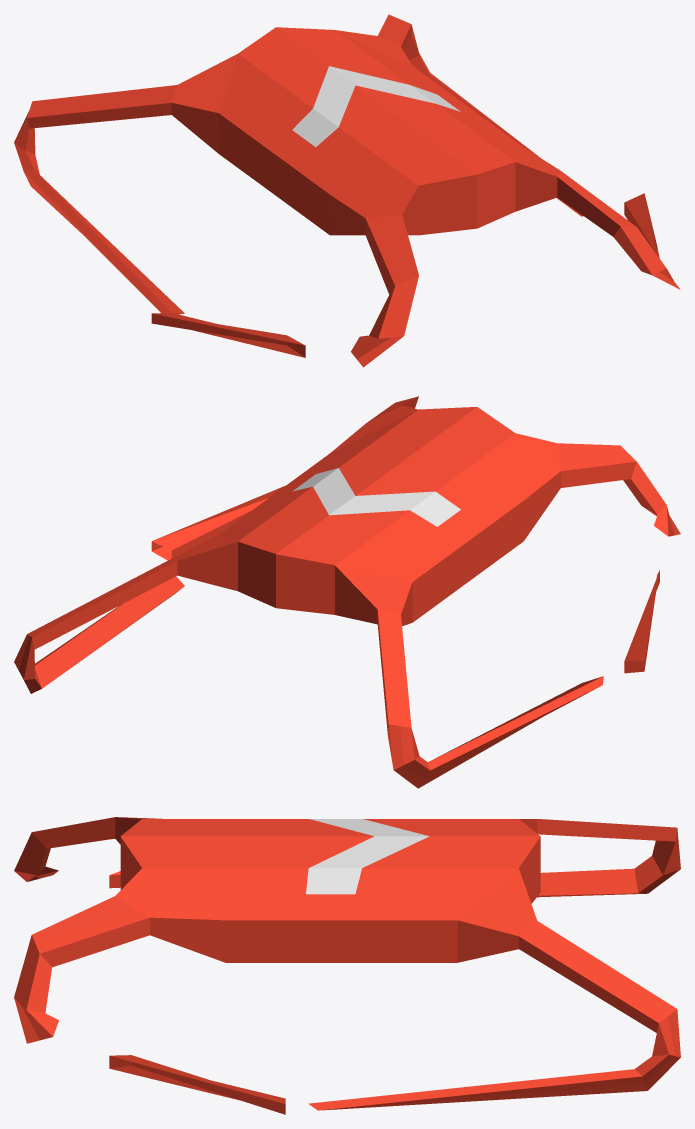
File: backpack.fbx
The picture shows the model from 3 angles, top to bottom: view 1: azimuth 30°, elevation 25°; view 2: azimuth 150°, elevation 25°; view 3: azimuth 270°, elevation 25°; orthographic projection. The views are drawn at different scales.
Visible parts, largest first — view 1: Backpack; view 2: Backpack; view 3: Backpack.
Boxes of the visible parts, <box> form: Backpack: <box>14,14,680,367</box>; Backpack: <box>14,396,680,788</box>; Backpack: <box>14,817,680,1114</box>.
Size of the model in its own units: 10.02 by 3.18 by 11.26.
